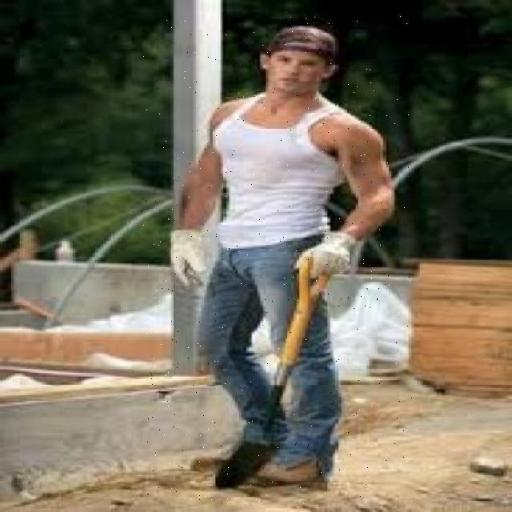Boots: (256, 446, 334, 486)
Person: (142, 16, 412, 503)
